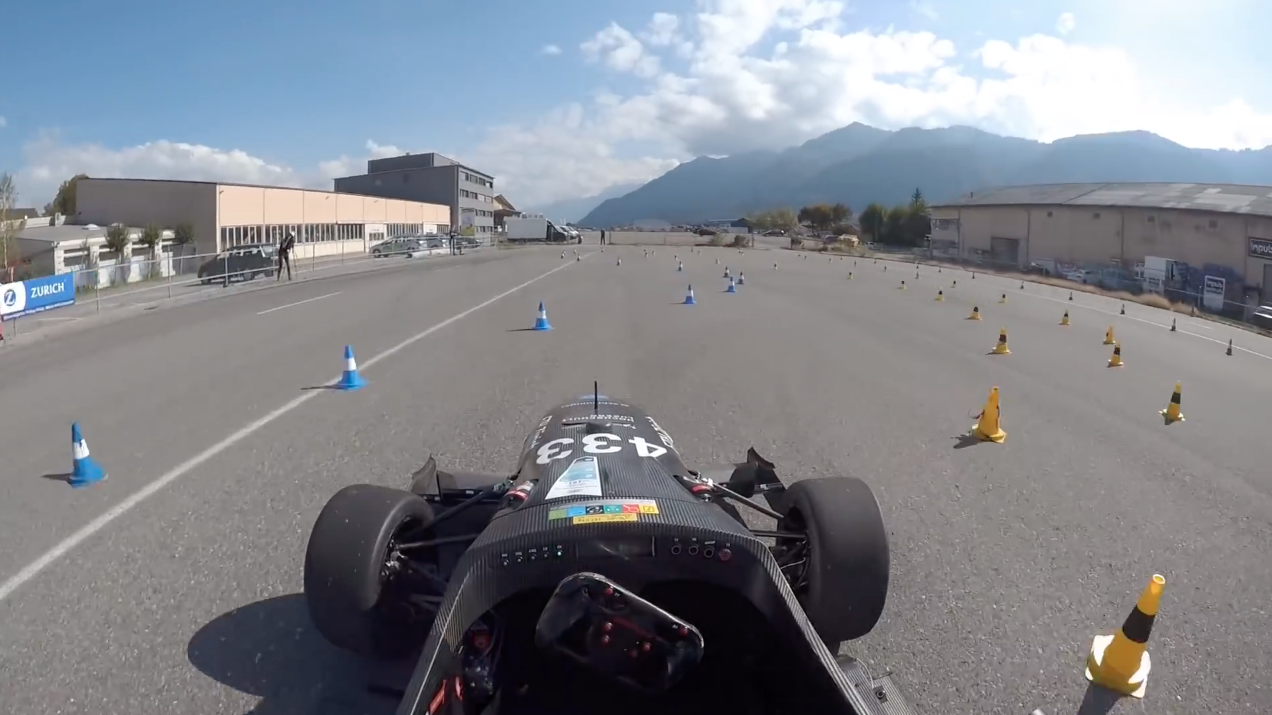lcone: (60, 421, 111, 489), (334, 341, 375, 393), (529, 298, 557, 335)
rcone: (1074, 568, 1178, 703), (963, 380, 1018, 449), (1159, 378, 1196, 425), (989, 321, 1017, 359)
